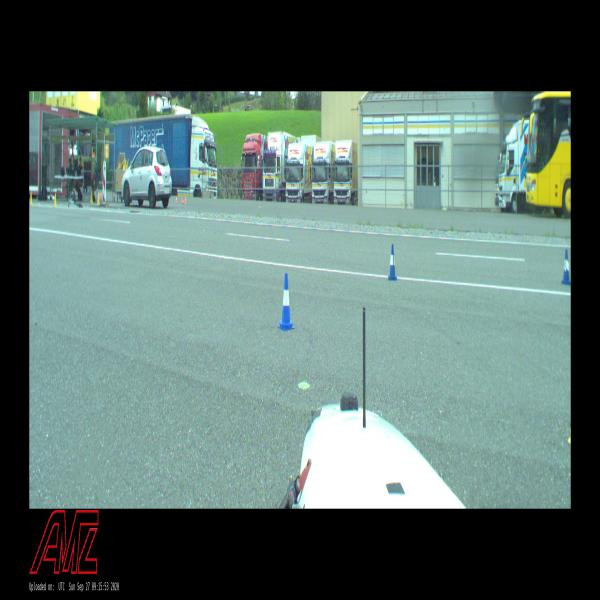blue_cone: (277, 272, 295, 330), (389, 244, 398, 280), (562, 250, 570, 284)
yellow_cone: (54, 194, 57, 207), (97, 192, 100, 205), (90, 191, 93, 203), (30, 192, 32, 205)
